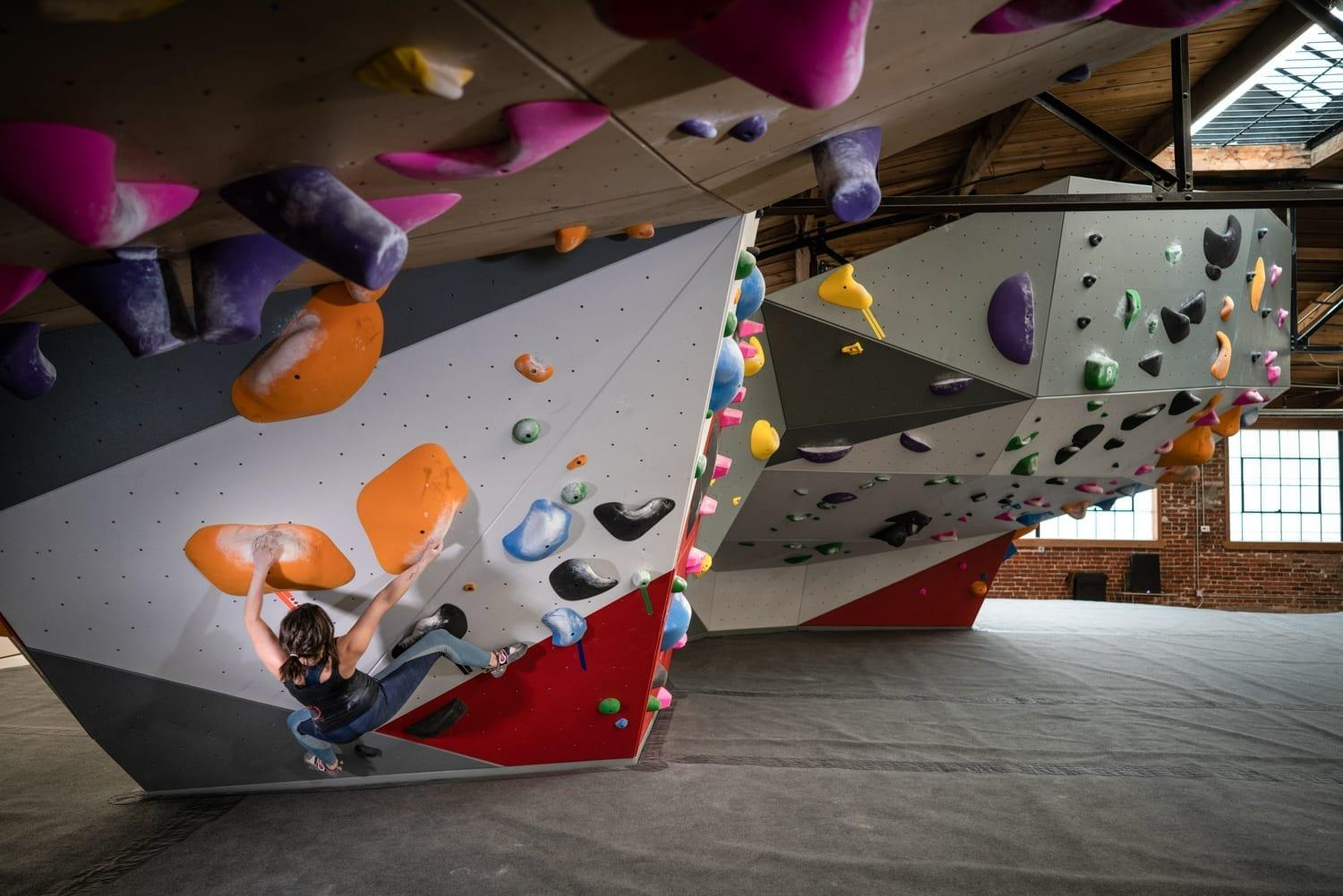black-hold: (0, 84, 203, 285), (374, 64, 618, 221), (218, 126, 420, 313), (220, 267, 411, 462), (591, 0, 873, 110), (334, 431, 488, 581), (49, 240, 187, 380), (182, 511, 359, 603), (189, 233, 304, 344), (353, 30, 476, 120), (972, 0, 1241, 34), (808, 126, 889, 226), (497, 489, 582, 576), (381, 599, 472, 659), (984, 272, 1038, 369), (592, 490, 681, 546), (545, 547, 622, 608), (365, 190, 464, 235), (0, 323, 58, 399), (704, 334, 753, 423), (811, 260, 876, 327), (867, 496, 935, 559), (403, 694, 472, 750), (1148, 423, 1219, 473), (538, 597, 593, 652), (1199, 211, 1246, 271), (658, 591, 696, 658), (0, 263, 46, 313), (547, 214, 593, 260), (509, 347, 558, 390), (1154, 299, 1197, 347), (1116, 397, 1170, 435), (722, 110, 772, 151), (1206, 403, 1253, 444), (1177, 287, 1220, 329), (1080, 353, 1122, 396), (1185, 388, 1226, 430), (1160, 383, 1203, 423), (747, 417, 783, 463), (737, 267, 766, 324), (1067, 415, 1108, 451), (1009, 447, 1047, 485), (1246, 256, 1270, 313), (895, 429, 934, 461), (1209, 330, 1233, 381), (731, 249, 761, 287), (674, 116, 721, 140), (342, 280, 389, 304), (796, 444, 852, 464), (1001, 427, 1042, 454), (1058, 491, 1092, 523), (1135, 346, 1167, 379), (1049, 438, 1083, 469), (745, 336, 766, 378), (682, 545, 708, 578), (1191, 408, 1222, 435), (708, 453, 734, 484), (1014, 511, 1058, 529), (929, 378, 973, 396), (1124, 288, 1142, 332), (511, 417, 540, 443), (1230, 387, 1265, 408), (622, 222, 657, 242), (696, 493, 721, 521), (691, 553, 716, 581), (734, 337, 760, 363), (110, 246, 157, 260), (1114, 481, 1145, 502), (1236, 406, 1264, 429), (352, 741, 384, 761), (1200, 260, 1225, 285), (1152, 437, 1178, 461), (561, 480, 588, 503), (1217, 294, 1237, 324), (1262, 262, 1285, 288), (1058, 64, 1089, 83), (722, 310, 740, 341), (738, 319, 765, 339), (996, 541, 1020, 563), (655, 685, 675, 711), (1100, 434, 1127, 453), (1092, 497, 1120, 515), (840, 340, 865, 360), (719, 406, 742, 427), (782, 552, 814, 567), (693, 453, 709, 482), (821, 493, 858, 505), (671, 633, 692, 654), (598, 697, 621, 716), (730, 383, 748, 407), (1274, 307, 1291, 331), (970, 579, 989, 599), (929, 530, 957, 543), (1074, 482, 1104, 494), (1263, 348, 1280, 369), (812, 543, 841, 555), (1133, 462, 1156, 477), (672, 575, 689, 594), (567, 454, 588, 469), (1267, 365, 1281, 387), (785, 512, 812, 523), (1254, 224, 1271, 241), (645, 695, 661, 713), (1165, 250, 1183, 265), (993, 510, 1015, 522), (1086, 400, 1105, 412), (1023, 496, 1045, 506), (923, 478, 949, 486), (1045, 476, 1068, 485), (944, 475, 964, 485), (816, 501, 838, 510), (1148, 316, 1159, 334), (729, 493, 743, 507), (782, 544, 807, 550), (858, 482, 876, 490), (1261, 307, 1272, 320), (1246, 271, 1257, 283), (1251, 351, 1262, 363), (958, 560, 969, 572), (957, 514, 969, 524), (873, 476, 890, 483), (705, 408, 714, 421), (737, 541, 755, 547), (1261, 395, 1272, 403), (918, 587, 927, 596), (1110, 478, 1118, 485), (1105, 490, 1115, 495)
